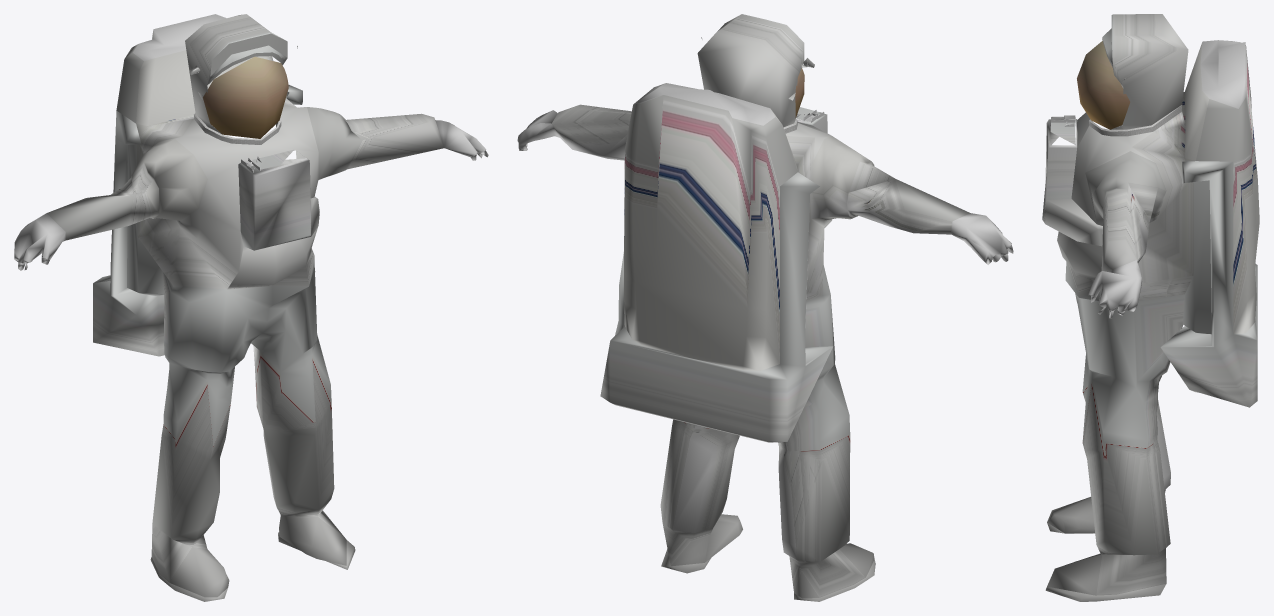
The model's file is astronaut.glb.
3 views of the same model, side by side, from view 1: azimuth 30°, elevation 25°; view 2: azimuth 150°, elevation 25°; view 3: azimuth 270°, elevation 25° (orthographic). The views are drawn at different scales.
Parts seen in each view (by area): view 1: astronaut1; view 2: astronaut1; view 3: astronaut1.
Part boxes in pixels (box(x1,y1,x2,y2)): astronaut1: box(14, 14, 488, 601); astronaut1: box(517, 14, 1013, 601); astronaut1: box(1042, 14, 1259, 601).
Bounding box in the file's own units: 68.66 × 74.19 × 27.36.
2 materials, 2 textured.
